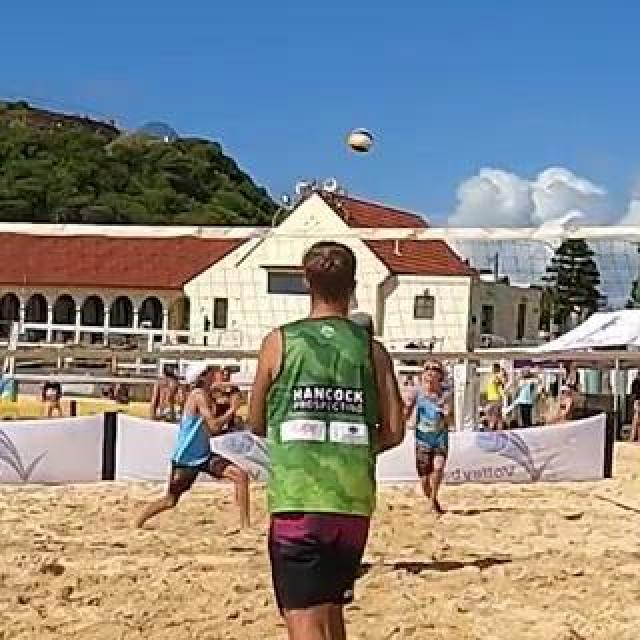volleyball: (349, 129, 375, 153)
